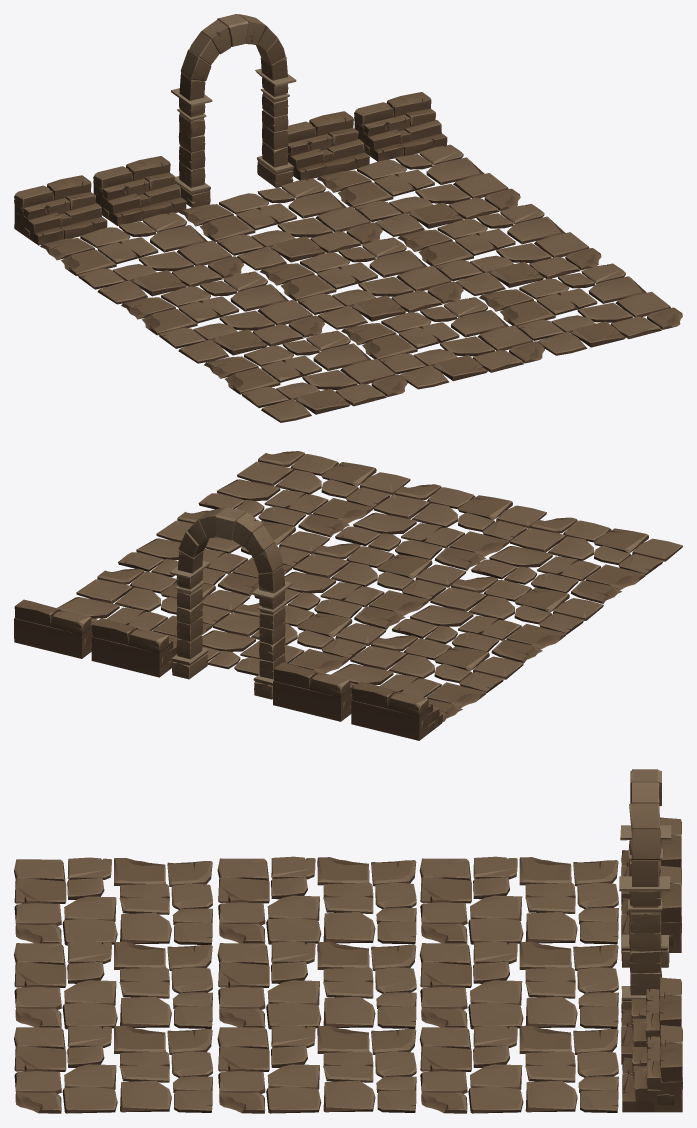
Rendered from box_opening_scene_1.glb.
3 renders of one model, top to bottom at view 1: azimuth 30°, elevation 25°; view 2: azimuth 150°, elevation 25°; view 3: azimuth 270°, elevation 25°, orthographic. The views are drawn at different scales.
Parts seen in each view (by area): view 1: box_scene; view 2: box_scene; view 3: box_scene.
Boxes of the visible parts, x1,y1,x2,y2 form: box_scene: (14,14,682,422); box_scene: (14,451,682,740); box_scene: (14,769,682,1113).
Bounding box in the file's own units: 12.02 × 4.7 × 13.44.
Materials: 1 (1 with a texture image).
